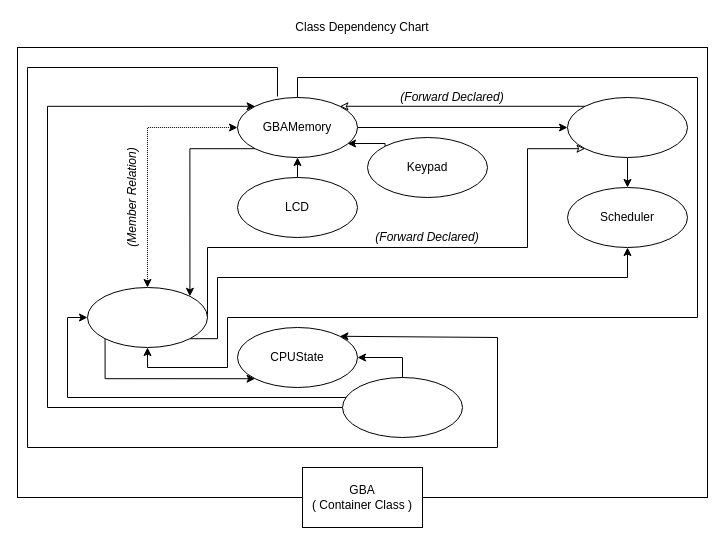
The diagram is 725 pixels wide and 545 high, and some of its shapes have lost their labels. The centre of each missing label's shape, as x and y in pixels:
ARM7TDMI: the point at 402,407
Interrupts: the point at 147,317
SoundController: the point at 627,127
